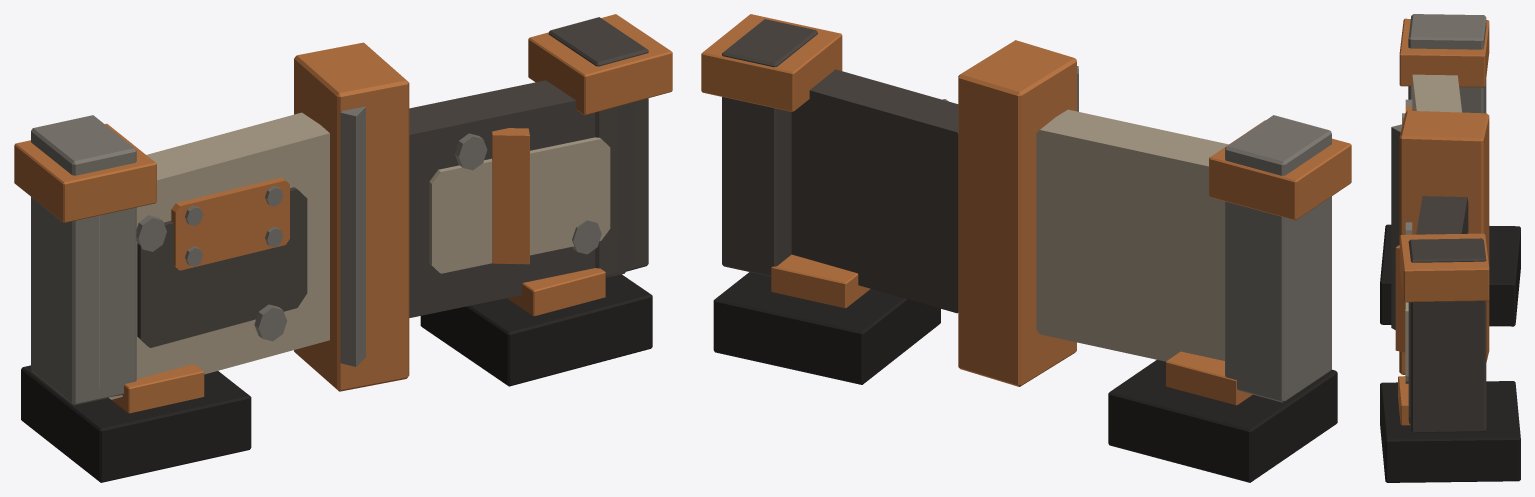
The model's file is barricade__intact.glb.
3 renders of one model, left to right at view 1: azimuth 30°, elevation 25°; view 2: azimuth 150°, elevation 25°; view 3: azimuth 270°, elevation 25°, orthographic. The views are drawn at different scales.
Parts seen in each view (by area): view 1: ROLE_accent, ROLE_primary, ROLE_secondary, ROLE_bareMetal, ROLE_rubber; view 2: ROLE_accent, ROLE_primary, ROLE_secondary, ROLE_rubber, ROLE_bareMetal; view 3: ROLE_accent, ROLE_primary, ROLE_rubber, ROLE_bareMetal, ROLE_secondary.
Part boxes in pixels (x1,y1,x2,y2): ROLE_accent: (14,14,672,413); ROLE_primary: (137,17,648,347); ROLE_secondary: (99,112,610,399); ROLE_bareMetal: (31,106,601,405); ROLE_rubber: (21,274,652,482); ROLE_accent: (701,14,1351,405); ROLE_primary: (722,19,958,313); ROLE_secondary: (1036,109,1228,361); ROLE_rubber: (713,272,1337,482); ROLE_bareMetal: (943,66,1331,402); ROLE_accent: (1395,18,1489,425); ROLE_primary: (1408,110,1486,433); ROLE_rubber: (1380,224,1520,482); ROLE_bareMetal: (1391,14,1486,383); ROLE_secondary: (1405,74,1461,381).
Bounding box in the file's own units: 8 × 4 × 2.
